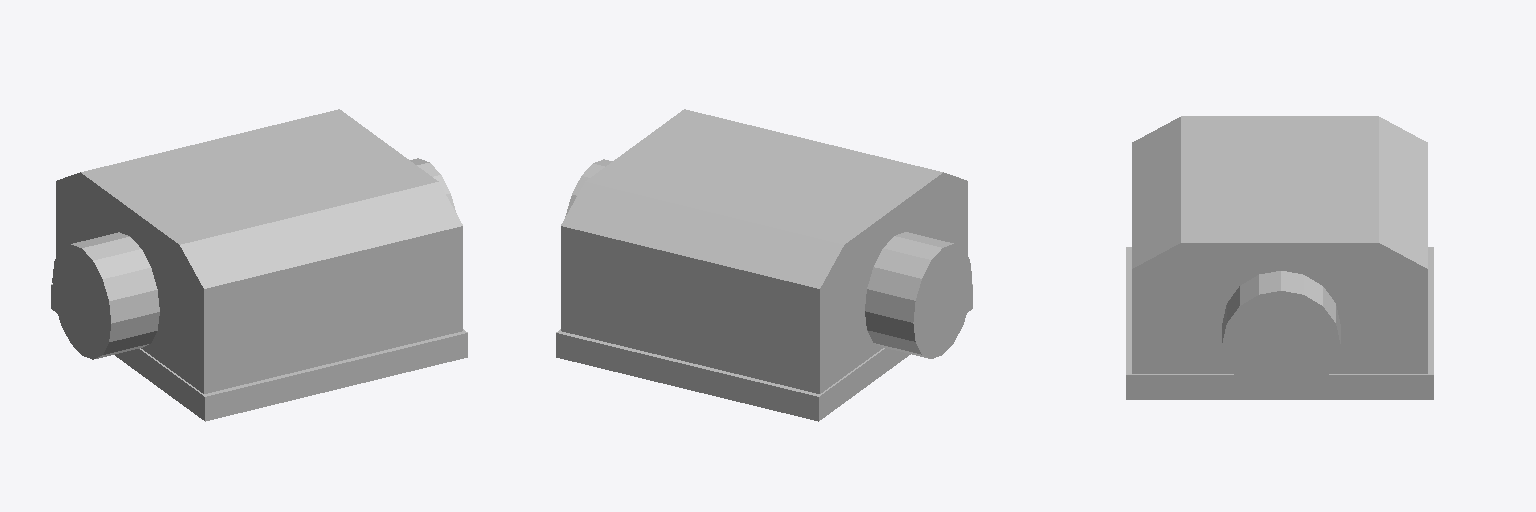
The model's file is CultureOutMesh.obj.
3 renders of one model, left to right at view 1: azimuth 30°, elevation 25°; view 2: azimuth 150°, elevation 25°; view 3: azimuth 270°, elevation 25°, orthographic.
Visible parts, largest first — view 1: Cube.018; view 2: Cube.018; view 3: Cube.018.
Part boxes in pixels (bbox=[...]): Cube.018: bbox=[51, 109, 467, 421]; Cube.018: bbox=[556, 109, 972, 421]; Cube.018: bbox=[1126, 116, 1433, 399].
Bounding box in the file's own units: 7.62 × 3.26 × 5.82.